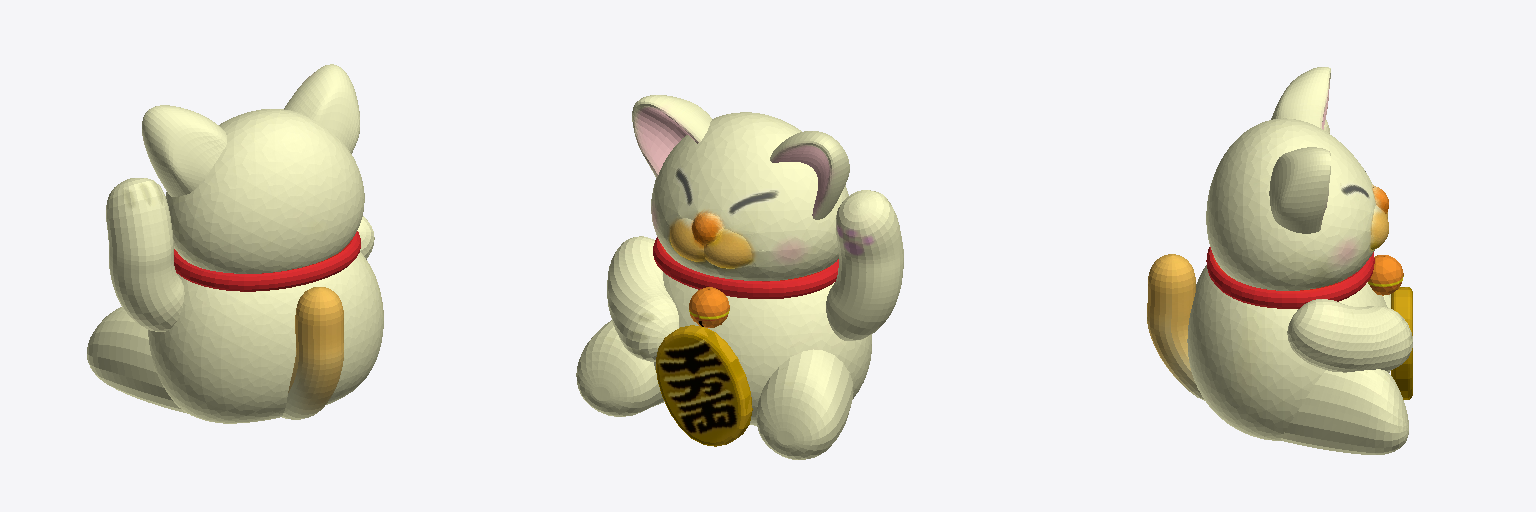
The picture shows the model from 3 angles: view 1: azimuth 30°, elevation 25°; view 2: azimuth 150°, elevation 25°; view 3: azimuth 270°, elevation 25°; orthographic projection.
Visible parts, largest first — view 1: head, collar; view 2: head, coin, collar; view 3: head, collar, coin.
Part boxes in pixels (x1,y1,x2,y2): head: (87,64,383,423); collar: (174,231,360,291); head: (576,95,903,459); coin: (656,325,752,446); collar: (653,237,838,327); head: (1147,67,1412,454); collar: (1206,247,1403,308); coin: (1391,287,1412,399).
Size of the model in its own units: 229 by 241 by 192.
3 materials, 3 textured.